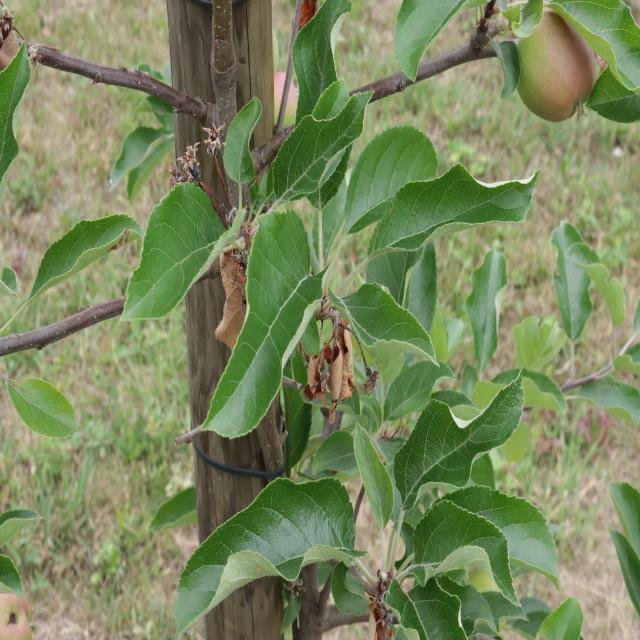-FireBlight-: (308, 288, 359, 406), (208, 246, 245, 349)
